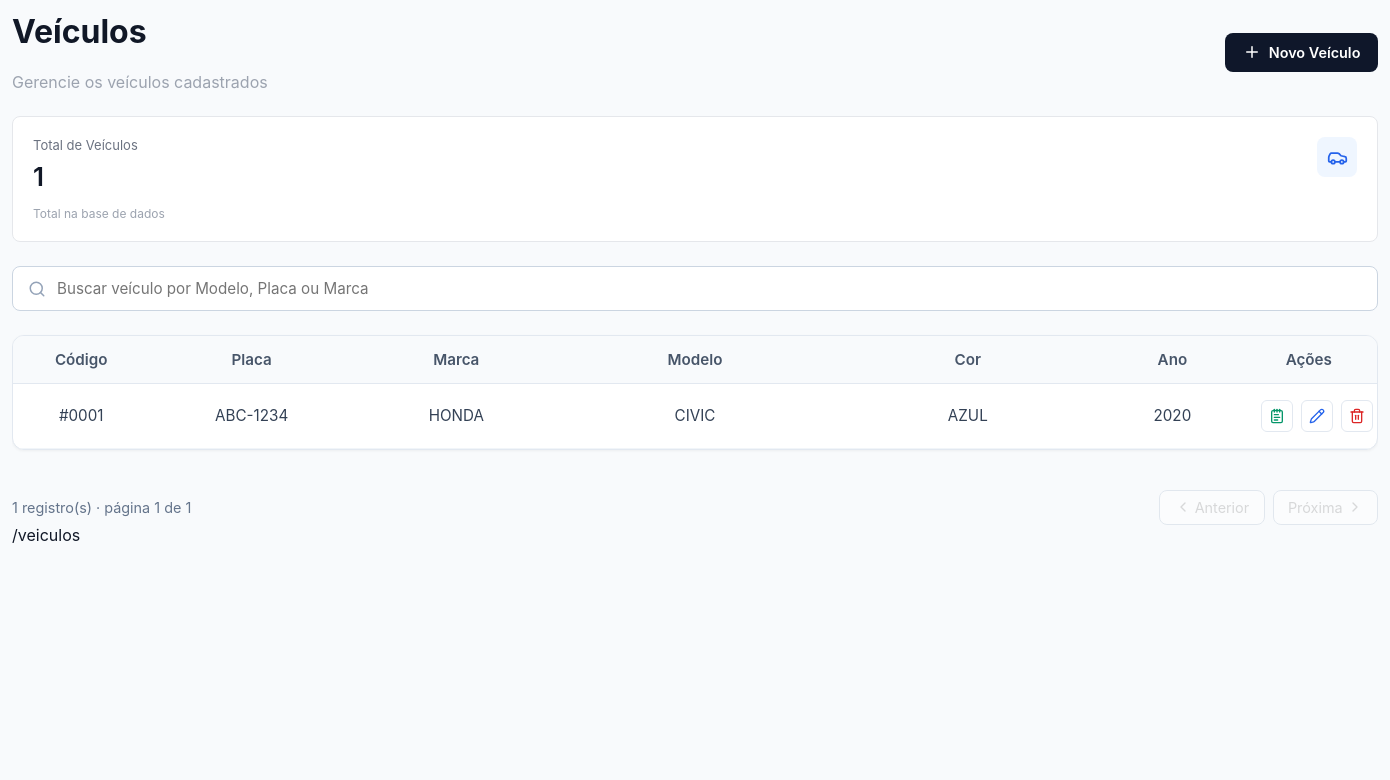
Página de Veículos › 'Visualizar Ordens de Serviço' navega para /ordens-servico?veiculo=<placa>
The image size is (1390, 780).
Expected: the text "ABC-1234" is shown, [149,383,354,448]
Click the button titled "Visualizar Ordens de Serviço" at (1277, 416), box [1261,400,1293,432]
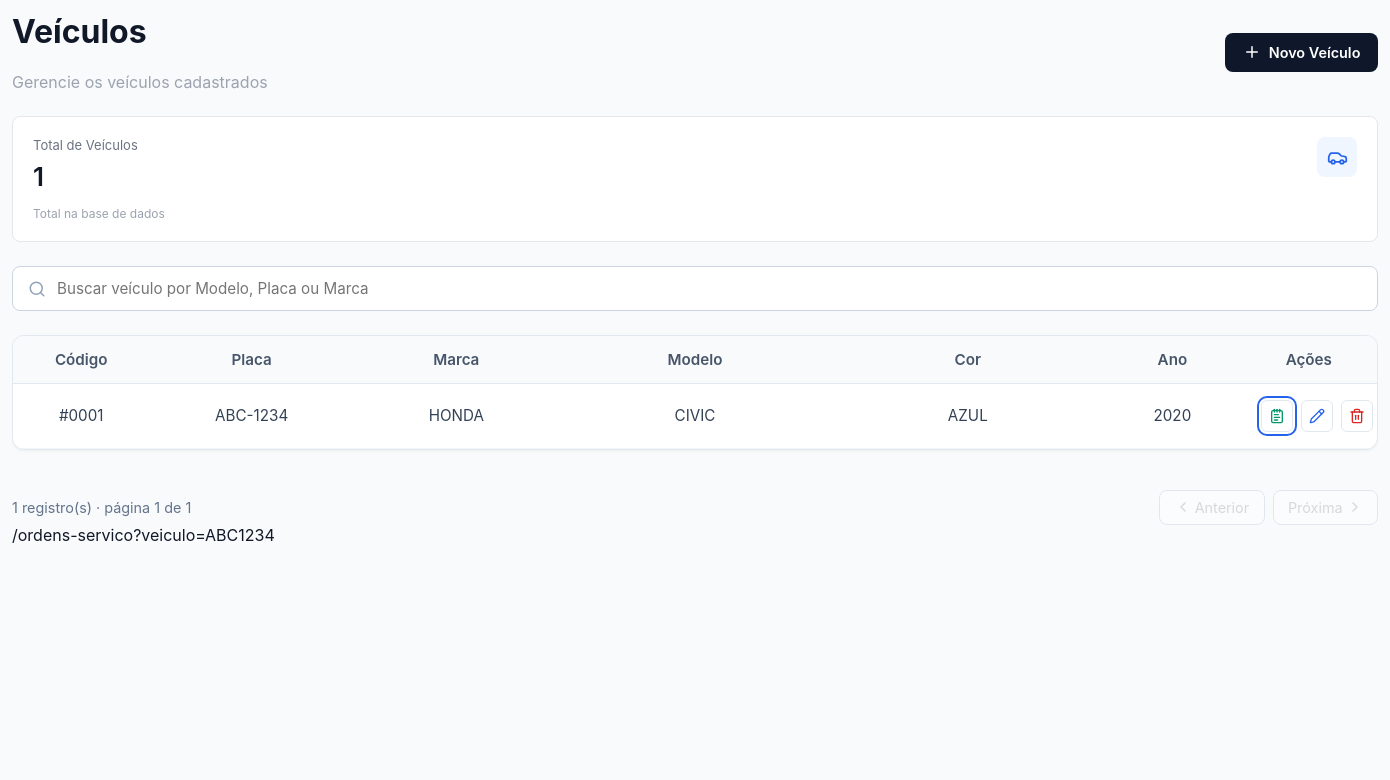
Expected: the text with test id "localizacao" reads "/ordens-servico?veiculo=ABC1234", [12,525,275,545]
